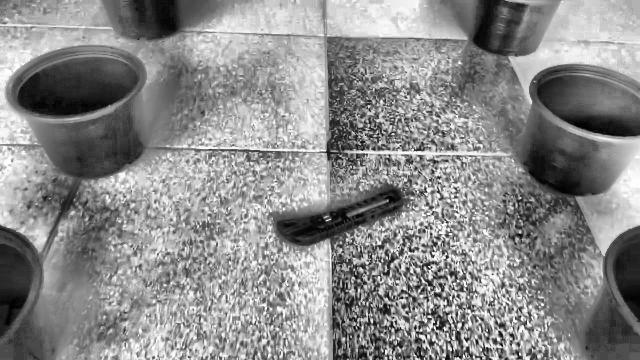pot: (4, 45, 150, 180), (519, 63, 640, 198)
